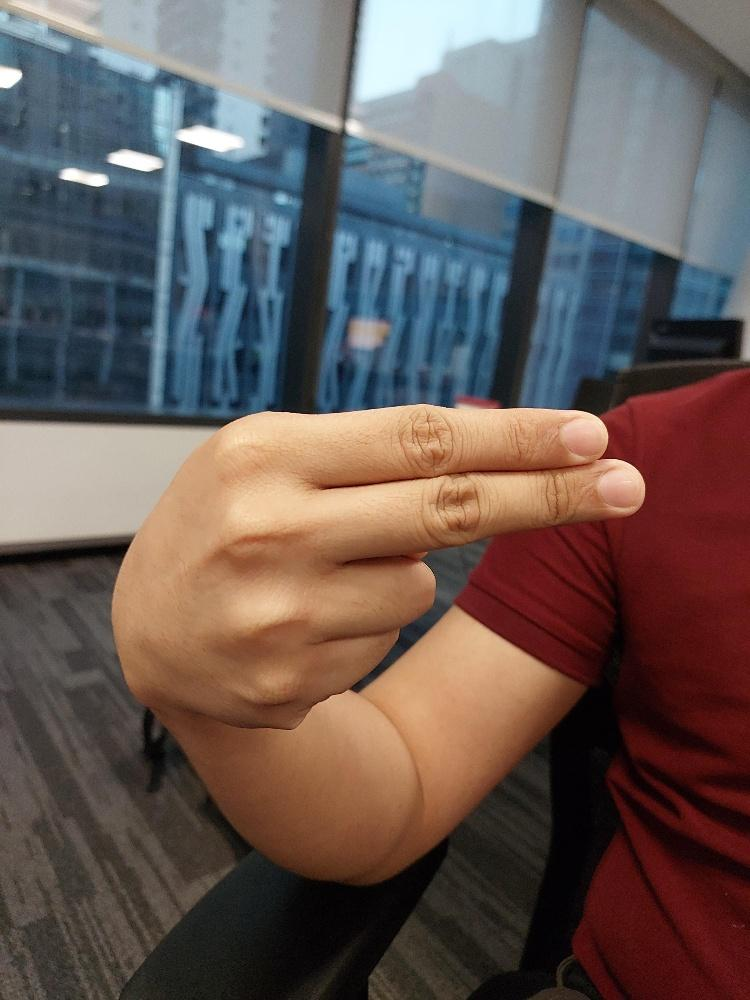h: (108, 399, 649, 735)
